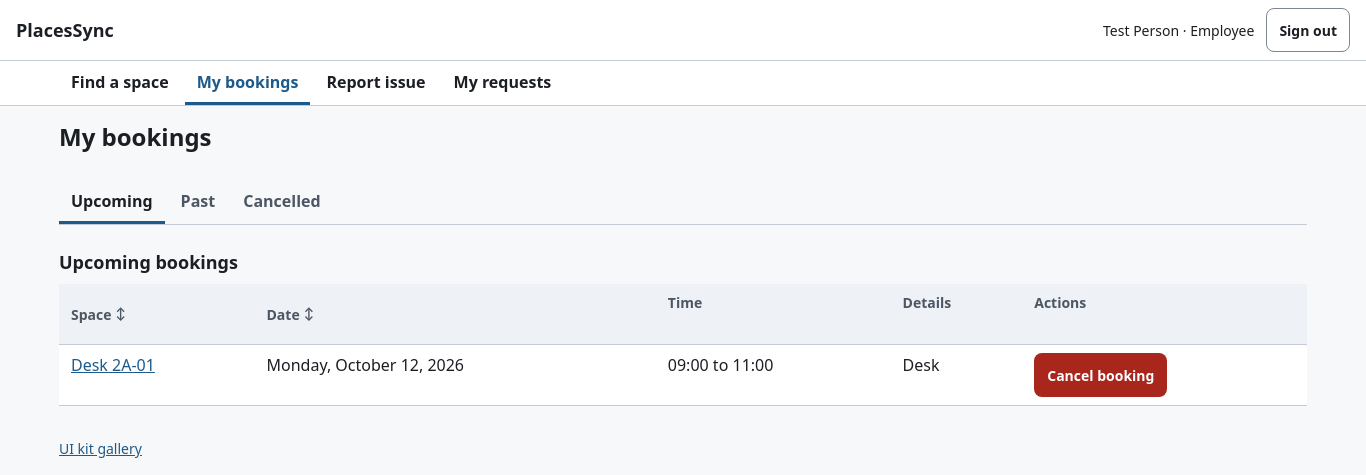
Test: My bookings (SPEC 14.1) › splits bookings into Upcoming, Past and Cancelled tabs
The image size is (1366, 475).
Check: the table "Upcoming bookings" is shown, box [59, 241, 1307, 406]
Step 1. Click the tab "Past" → point(198, 202), box [169, 180, 227, 224]
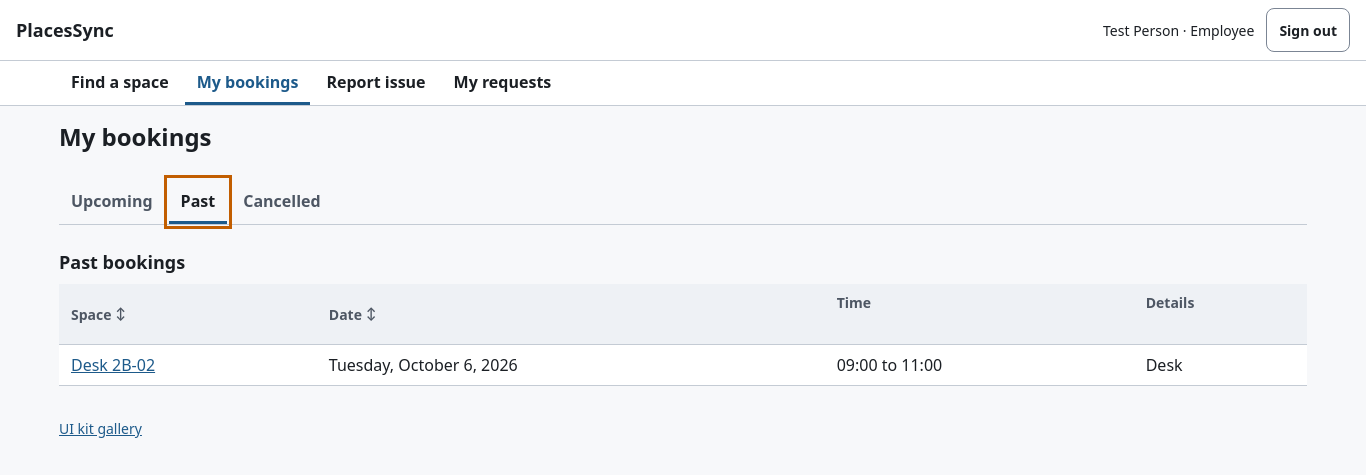
Step 2. Click the tab "Cancelled" → point(282, 202), box [231, 180, 333, 224]
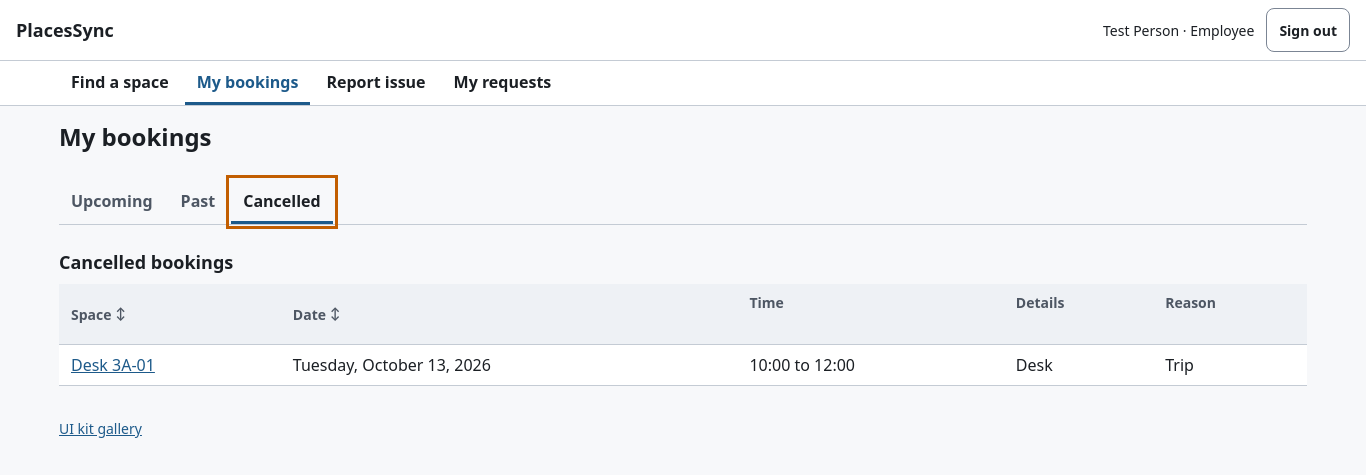
Check: the text "Trip" is shown, box [1153, 344, 1307, 386]
